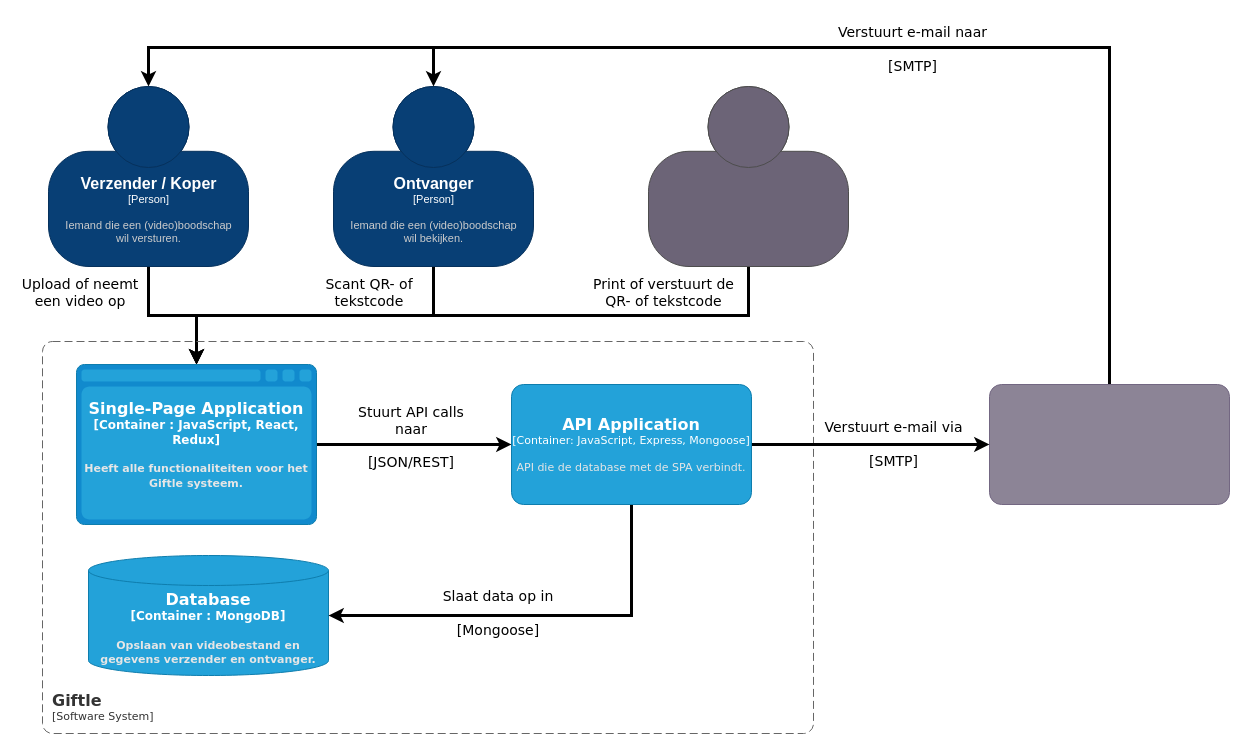
Some shapes in this 1247 by 751 pixel diagram are drawn without their labels. Each missing label, with the centre of its shape:
"Magazijnmedewerker [Person] Magazijnmedewerker voor de QR-code uitprinten." belongs at [748,176].
"SendPulse [Software System] SMTP Service voor het mailen." belongs at [1109,444].
